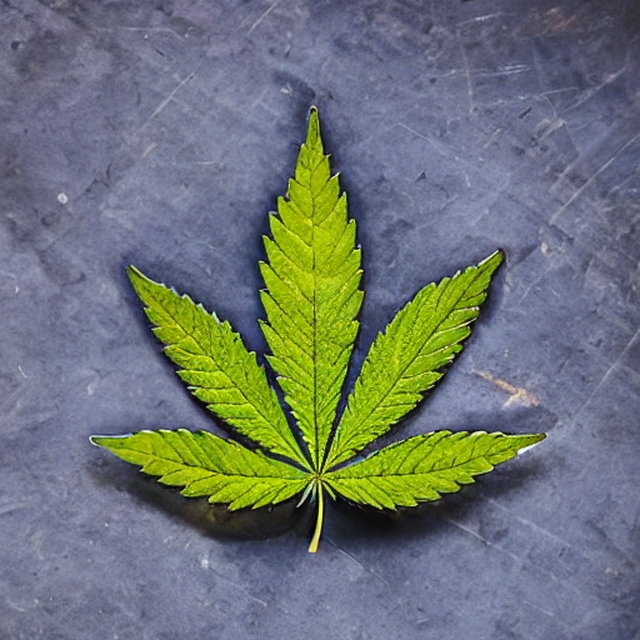Marijuana Leaf: (88, 102, 548, 553)
